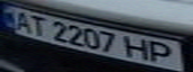0: (81, 26, 103, 51)
2: (45, 19, 69, 43), (66, 24, 84, 47)
7: (100, 29, 121, 54)
A: (6, 8, 36, 33)
H: (124, 34, 154, 62)
P: (145, 39, 181, 65)
T: (24, 12, 51, 37)
